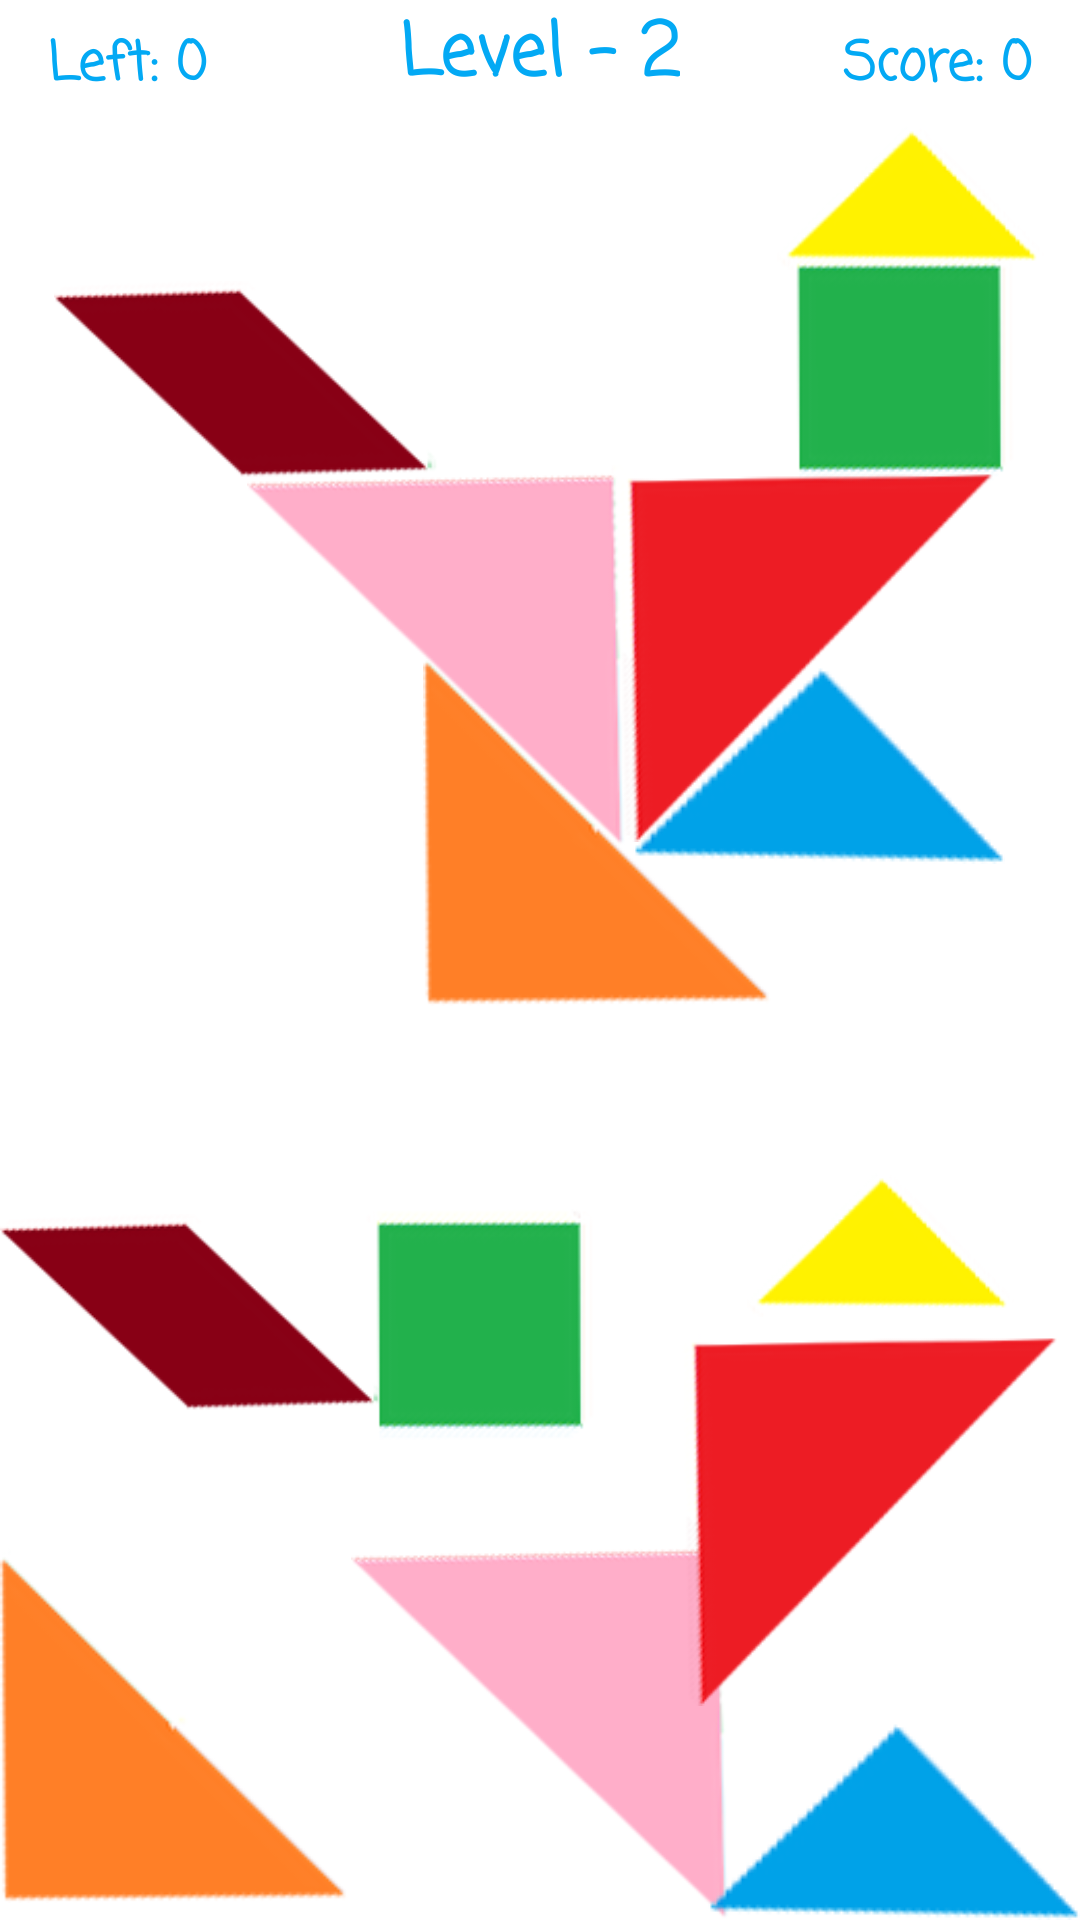

Icon click points for this 1080px×1920px phone screenshot, format [x,y]:
level kare: [900,367], [470,1324]
